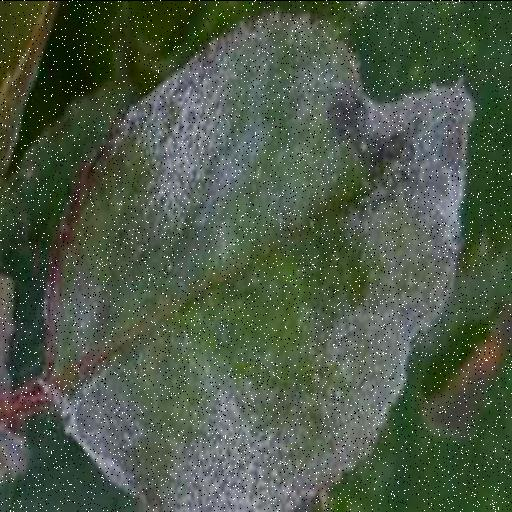powdery_mildew: (41, 12, 472, 512)
